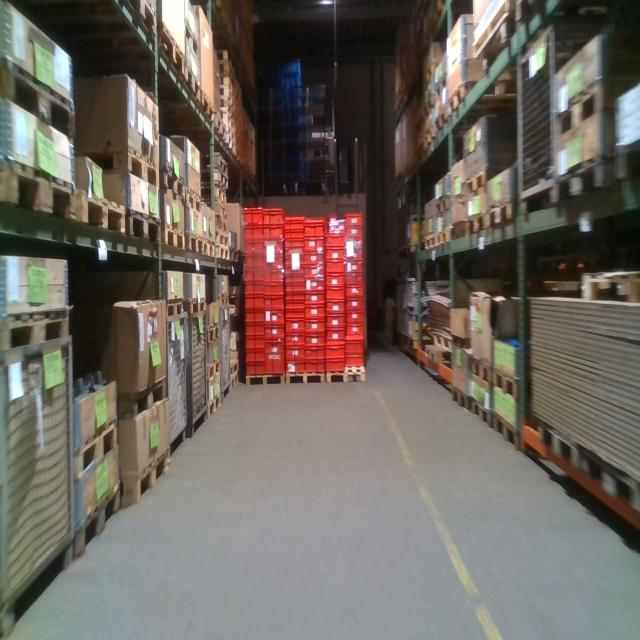pallet: (1, 59, 78, 142), (15, 1, 160, 43), (548, 78, 635, 135), (1, 163, 78, 224), (72, 479, 124, 569), (526, 410, 583, 480), (548, 155, 619, 209), (123, 441, 173, 512), (585, 452, 638, 516), (70, 185, 126, 241), (1, 311, 72, 355), (76, 417, 120, 481), (479, 21, 518, 82), (119, 377, 168, 422), (582, 265, 638, 304), (105, 147, 156, 184), (123, 202, 163, 246), (159, 20, 184, 74), (490, 362, 520, 399), (491, 407, 520, 445), (160, 167, 188, 205), (325, 362, 367, 387), (181, 57, 202, 107), (147, 297, 187, 322), (285, 367, 325, 391), (450, 85, 479, 116), (469, 392, 493, 427), (485, 200, 515, 228), (182, 21, 203, 60), (467, 354, 491, 387), (244, 371, 285, 389), (465, 171, 498, 193), (466, 210, 490, 239), (162, 227, 186, 254), (199, 85, 213, 130), (185, 187, 205, 217), (431, 328, 454, 354), (453, 385, 473, 414), (436, 104, 451, 135), (433, 193, 451, 218), (185, 236, 203, 260), (205, 393, 221, 419), (449, 332, 472, 350), (422, 344, 443, 363), (213, 112, 226, 142), (204, 322, 221, 344), (206, 356, 222, 379), (187, 298, 207, 316), (215, 154, 228, 179), (435, 227, 452, 246), (434, 75, 449, 96), (202, 239, 217, 259), (225, 355, 240, 374), (215, 171, 230, 190), (422, 230, 435, 251), (426, 125, 436, 151), (214, 186, 227, 206), (229, 369, 240, 390), (226, 136, 237, 157), (222, 99, 234, 118), (215, 203, 228, 220), (229, 245, 241, 263), (218, 247, 231, 262), (221, 85, 234, 100), (218, 233, 230, 248), (216, 218, 228, 231), (219, 59, 231, 72), (226, 125, 235, 141), (220, 294, 231, 306), (221, 72, 231, 85), (227, 116, 235, 128), (219, 49, 228, 59)
small_load_carrier: (265, 340, 284, 373), (304, 237, 325, 255), (304, 221, 327, 237), (342, 235, 365, 251), (244, 223, 263, 242), (346, 336, 365, 355), (325, 341, 345, 359), (262, 210, 284, 226), (324, 359, 345, 374), (302, 266, 324, 280), (245, 309, 264, 325), (263, 242, 282, 258), (305, 304, 324, 320), (264, 269, 284, 284), (345, 355, 365, 370), (262, 226, 283, 240), (324, 273, 345, 287), (265, 311, 282, 328), (244, 208, 263, 223), (245, 294, 264, 309), (285, 319, 304, 334), (285, 347, 304, 362), (244, 324, 264, 338), (284, 218, 304, 232), (305, 320, 325, 334), (324, 235, 344, 249), (325, 300, 345, 314), (325, 327, 345, 341), (245, 254, 263, 269), (305, 334, 325, 347), (325, 314, 345, 327), (245, 269, 262, 284), (265, 296, 282, 311), (324, 249, 345, 261), (324, 288, 345, 300), (285, 334, 304, 347), (305, 280, 324, 293), (244, 364, 264, 376), (324, 261, 344, 273), (347, 297, 362, 313), (307, 359, 324, 373), (346, 261, 363, 275), (346, 227, 363, 241), (346, 323, 364, 336), (244, 242, 263, 254), (245, 338, 264, 350), (245, 350, 264, 362), (265, 284, 284, 296), (263, 256, 282, 268), (266, 328, 283, 341), (285, 362, 304, 373), (305, 293, 324, 304), (306, 255, 325, 266), (284, 300, 304, 310), (305, 347, 323, 358), (285, 274, 304, 284), (346, 216, 365, 226), (283, 231, 304, 240), (283, 240, 304, 249), (283, 256, 304, 265), (284, 310, 304, 319), (346, 275, 361, 287), (347, 249, 362, 261), (285, 265, 304, 274), (245, 284, 262, 294), (284, 285, 304, 293), (346, 313, 362, 323), (347, 287, 363, 297), (284, 249, 305, 256), (284, 294, 304, 300)
stillage: (2, 331, 77, 639), (516, 18, 611, 221), (162, 311, 189, 457), (188, 306, 209, 437), (218, 302, 233, 404)
